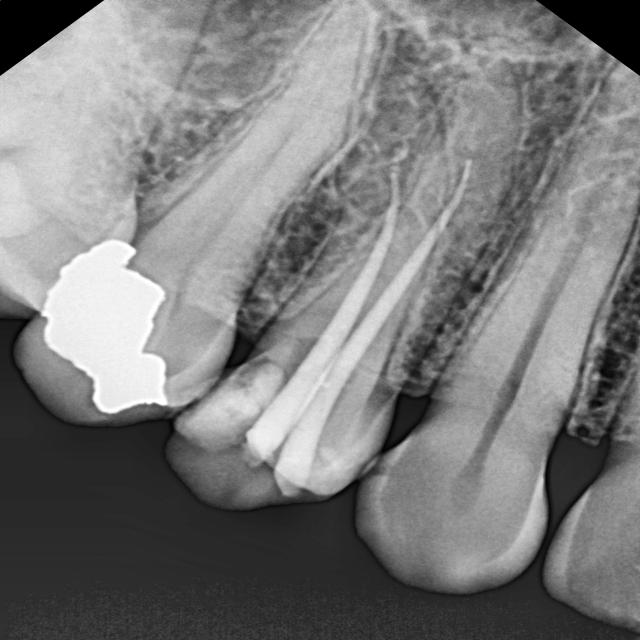Normal: (348, 71, 640, 609)
Overhang: (0, 190, 207, 439)
RCT: (159, 55, 544, 535)
